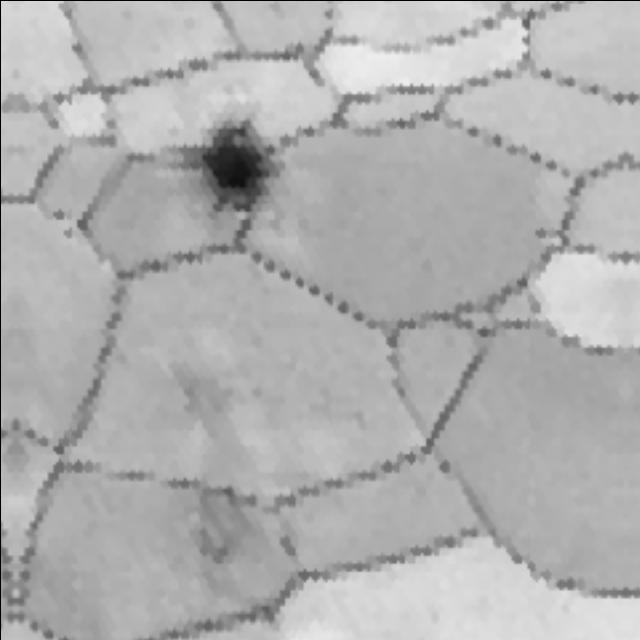good_void: (168, 109, 287, 231), (171, 480, 263, 580), (168, 363, 263, 447), (42, 205, 93, 239)
